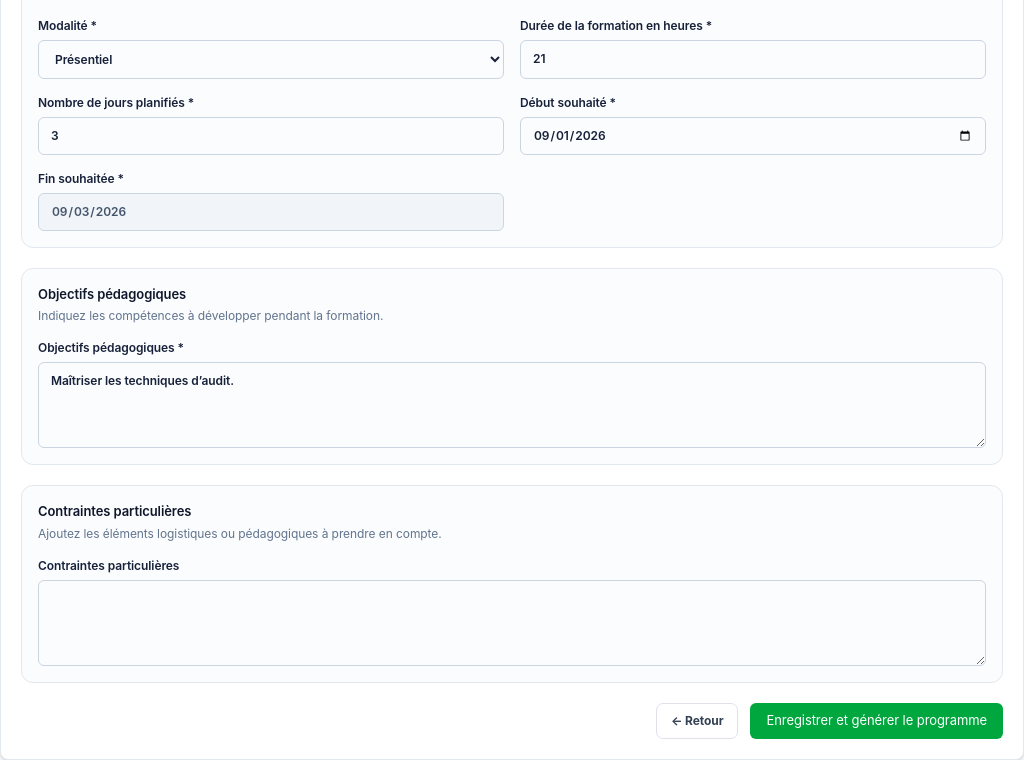
Test case: Besoin du client › charge, valide et génère sans confirmation navigateur
(page scrolled)
Click the button "Enregistrer et générer le programme" at (877, 720), box [750, 702, 1003, 738]
(page scrolled)
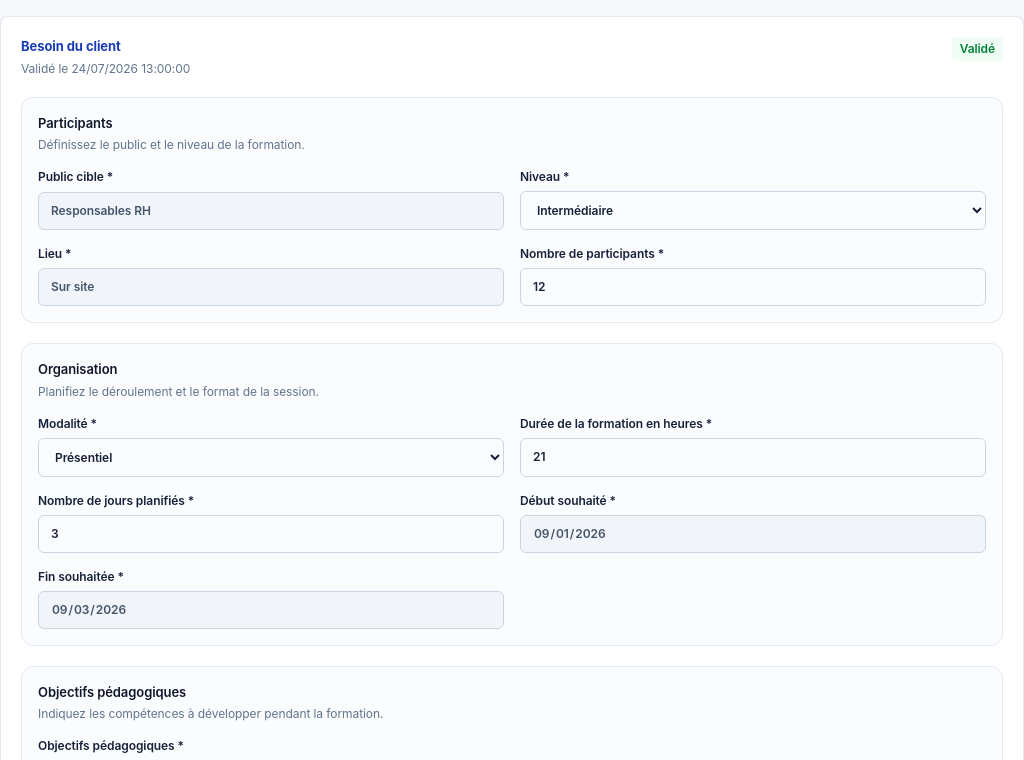
Expected: the field labelled "Public cible" is disabled, [38, 192, 504, 230]
Now the text "Validé le 24/07/2026 13:00:00" is shown, box [21, 60, 190, 76]
Now the button "Enregistrer et générer le programme" is gone
